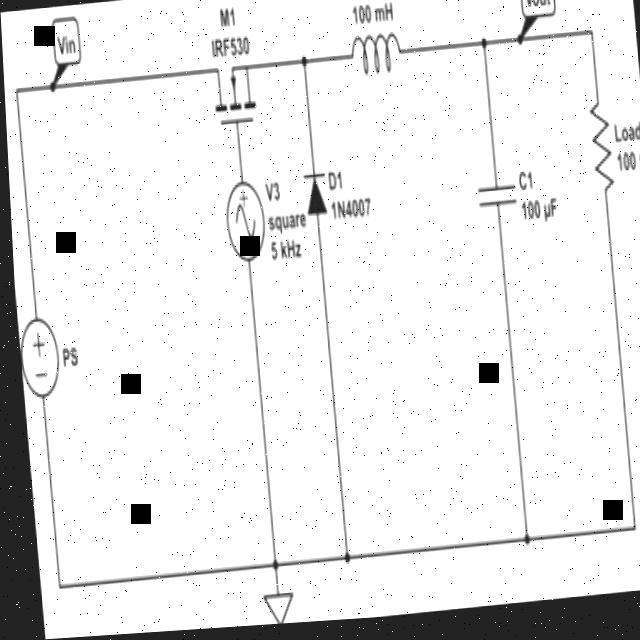capacitor: (467, 157, 519, 234)
diode: (290, 165, 328, 227)
ground: (249, 578, 291, 628)
inductor: (337, 14, 410, 100)
mosfet: (204, 48, 260, 143)
node: (293, 48, 309, 79), (512, 528, 527, 556), (261, 553, 275, 581), (475, 37, 490, 58), (333, 547, 345, 572)
resistor: (574, 85, 620, 218)
source: (217, 171, 266, 267), (13, 309, 60, 408)
